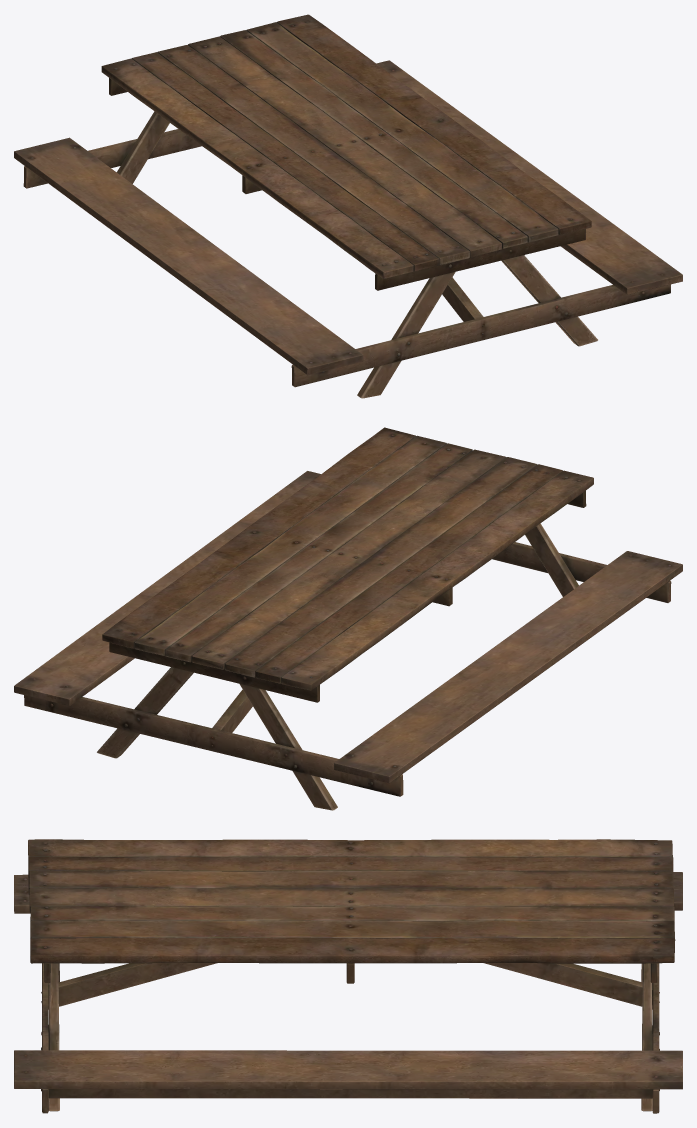
The model's file is picnic-table.glb.
The picture shows the model from 3 angles, top to bottom: view 1: azimuth 30°, elevation 25°; view 2: azimuth 150°, elevation 25°; view 3: azimuth 270°, elevation 25°; orthographic projection. The views are drawn at different scales.
Parts seen in each view (by area): view 1: picnic-table; view 2: picnic-table; view 3: picnic-table.
Part boxes in pixels (<box>): picnic-table: <box>14,14,682,398</box>; picnic-table: <box>14,427,682,810</box>; picnic-table: <box>14,839,682,1113</box>.
Size of the model in its own units: 2.24 by 0.7461 by 3.02.
2 materials, 2 textured.
